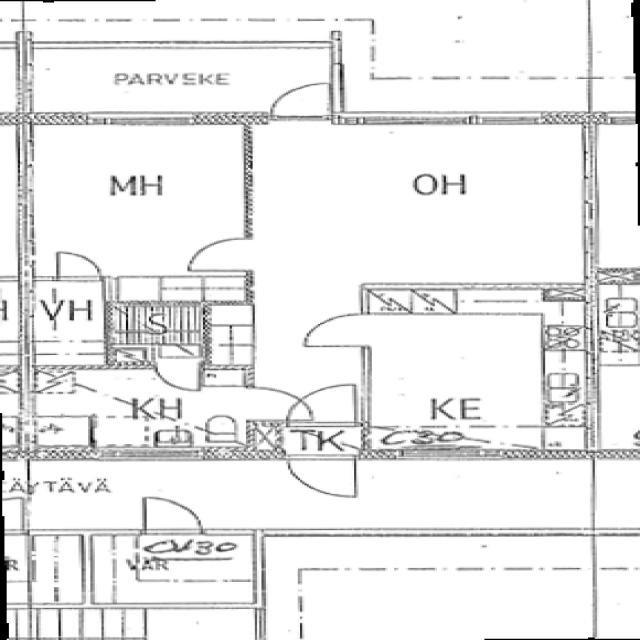door: (285, 439, 361, 501), (287, 380, 366, 425), (135, 493, 208, 537), (181, 233, 256, 274), (298, 309, 373, 350), (266, 80, 335, 120), (246, 385, 320, 419), (49, 247, 108, 284), (154, 358, 205, 394)
window: (92, 113, 194, 130), (470, 112, 546, 128), (364, 30, 382, 59)
zone: (258, 125, 598, 291), (23, 121, 249, 281), (362, 307, 582, 443), (26, 368, 274, 458), (296, 569, 598, 640), (15, 533, 264, 609), (25, 279, 109, 355), (109, 302, 204, 359), (595, 360, 640, 455), (142, 607, 262, 640), (597, 278, 640, 334), (598, 327, 640, 365), (596, 535, 638, 569), (541, 427, 595, 451)
